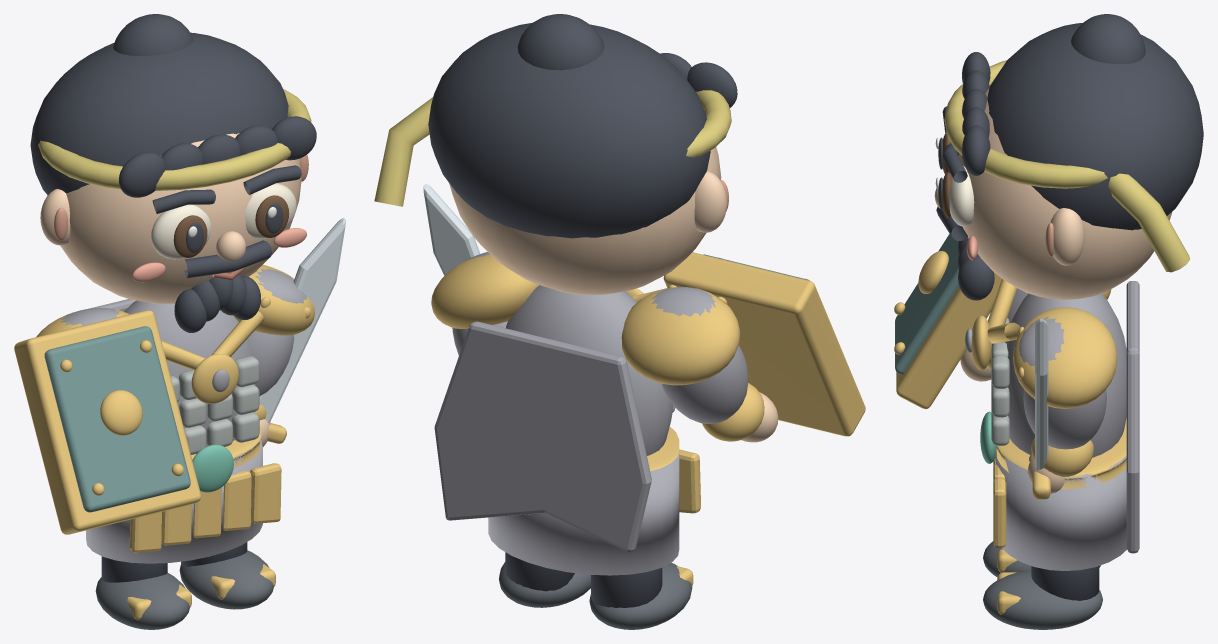
File: yt_ironbrute.fbx
The picture shows the model from 3 angles, left to right: view 1: azimuth 30°, elevation 25°; view 2: azimuth 150°, elevation 25°; view 3: azimuth 270°, elevation 25°; orthographic projection. The views are drawn at different scales.
Parts seen in each view (by area): view 1: hair_mass, shield_face, face, shield_edge, headband, robe_skirt, dao_blade, boot, boot.001, body, hair_bun, shoulder_gold (+45 smaller); view 2: hair_mass, cape, shield_edge, face, robe_skirt, body, shoulder_gold.001, shoulder_gold, hair_bun, sleeve.001, headband_tail, boot (+12 smaller); view 3: hair_mass, face, robe_skirt, shoulder_gold, body, shield_edge, boot.001, headband, cape, shield_face, headband_tail, hair_bun (+27 smaller).
Part boxes in pixels (x1,y1,x2,y2): hair_mass: (30, 32, 288, 194); shield_face: (44, 326, 190, 512); face: (47, 133, 301, 304); shield_edge: (14, 310, 201, 534); headband: (38, 88, 311, 190); robe_skirt: (86, 437, 262, 563); dao_blade: (259, 218, 345, 423); boot: (95, 573, 189, 629); boot.001: (179, 550, 273, 609); body: (124, 300, 255, 446); hair_bun: (113, 14, 193, 55); shoulder_gold: (233, 264, 315, 335); hair_mass: (428, 23, 710, 238); cape: (434, 321, 651, 552); shield_edge: (663, 252, 865, 436); face: (449, 147, 721, 295); robe_skirt: (488, 450, 679, 575); body: (506, 285, 672, 455); shoulder_gold.001: (621, 287, 740, 385); shoulder_gold: (431, 254, 538, 328); hair_bun: (517, 14, 604, 70); sleeve.001: (661, 345, 748, 423); headband_tail: (374, 97, 432, 206); boot: (589, 563, 692, 629); hair_mass: (987, 23, 1203, 230); face: (958, 87, 1172, 299); robe_skirt: (995, 445, 1127, 570); shoulder_gold: (1013, 307, 1117, 408); body: (1005, 293, 1126, 457); shield_edge: (896, 272, 1001, 409); boot.001: (983, 570, 1102, 629); headband: (944, 60, 1107, 188); cape: (1126, 281, 1139, 553); shield_face: (895, 234, 959, 374); headband_tail: (1108, 173, 1190, 272); hair_bun: (1071, 14, 1145, 64).
Bounding box in the file's own units: 1.54 × 2.46 × 1.18.
